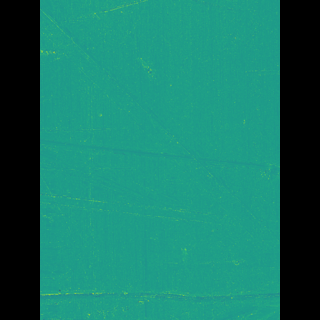Loch: (69, 1, 231, 225), (69, 128, 250, 182), (68, 190, 207, 229), (70, 282, 250, 310)
